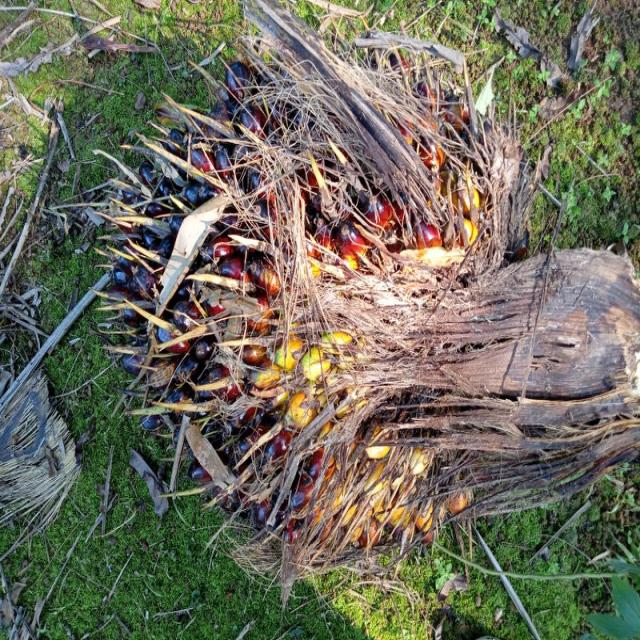fraksi 00: (61, 0, 550, 597)
